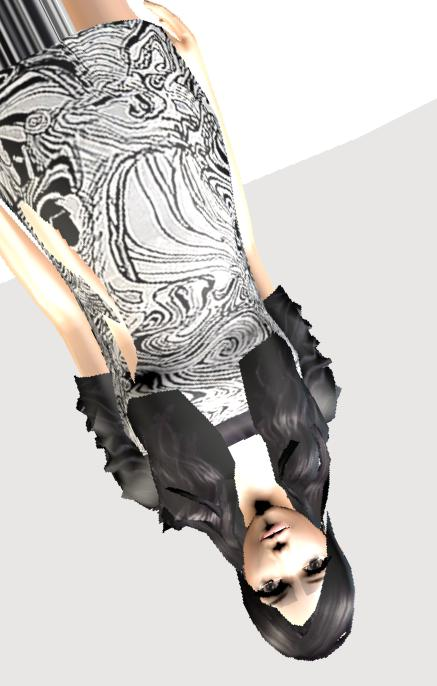clip: (98, 293, 144, 375)
